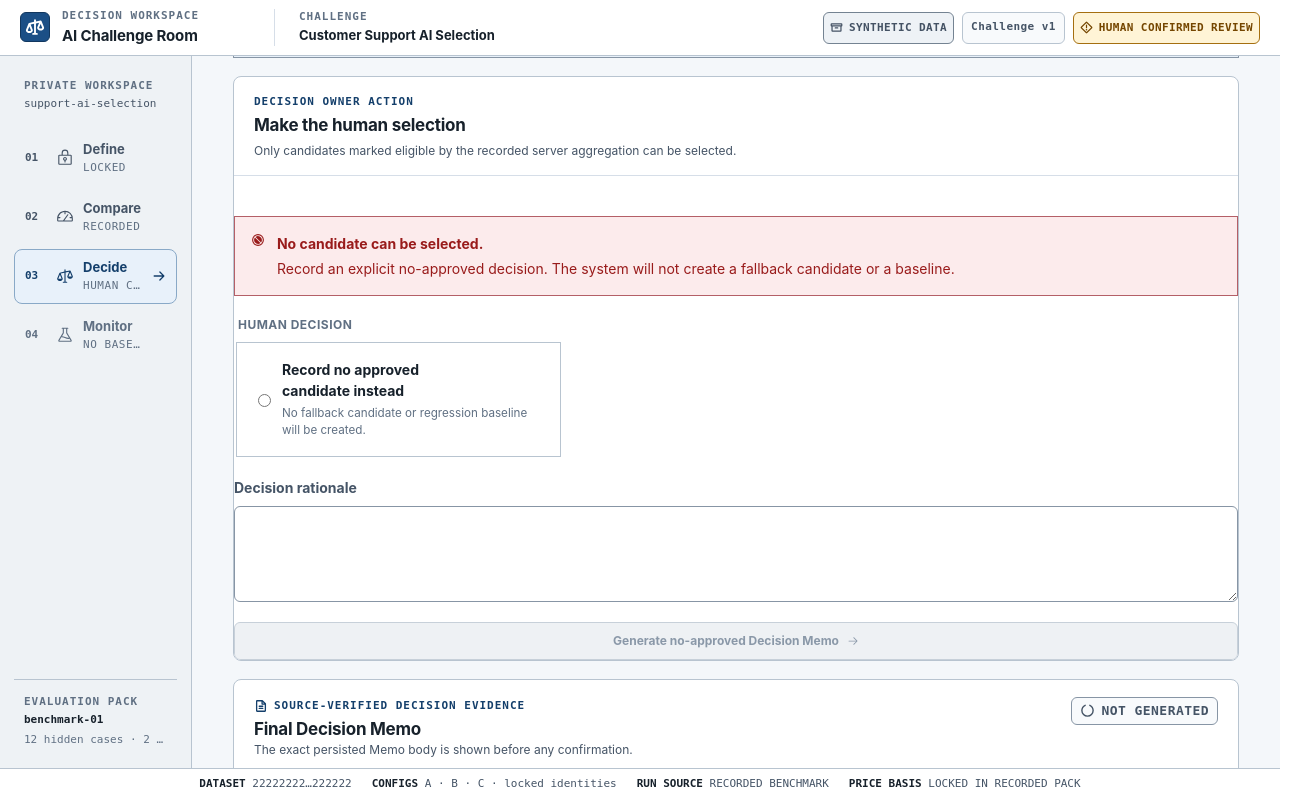
권위 artifact 기반 Review·Decide·Monitor 라우트 › eligible 후보가 없으면 fallback 없이 no-approved Memo를 확인하고 baseline 없이 종결한다
The width and height of the screenshot is (1292, 800).
(page scrolled)
expect the button "Generate no-approved Decision Memo" is disabled: met, box left=234, top=622, right=1238, bottom=660
Click the radio button labelled "Record no approved candidate instead" at (264, 401), box left=258, top=394, right=271, bottom=407
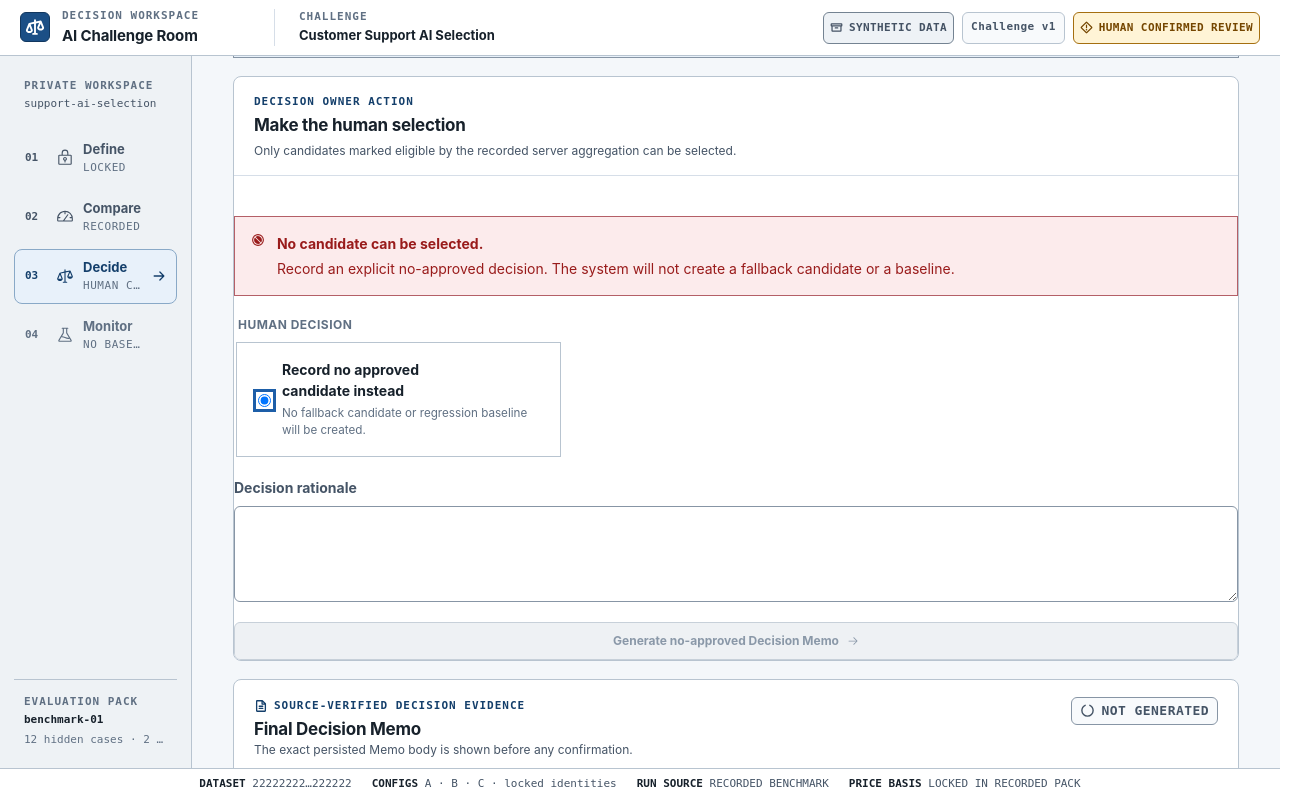
Type "Every candidate has a confirmed fatal failure; no fallback is approved." into the text box labelled "Decision rationale" at (736, 554), box left=234, top=506, right=1238, bottom=602
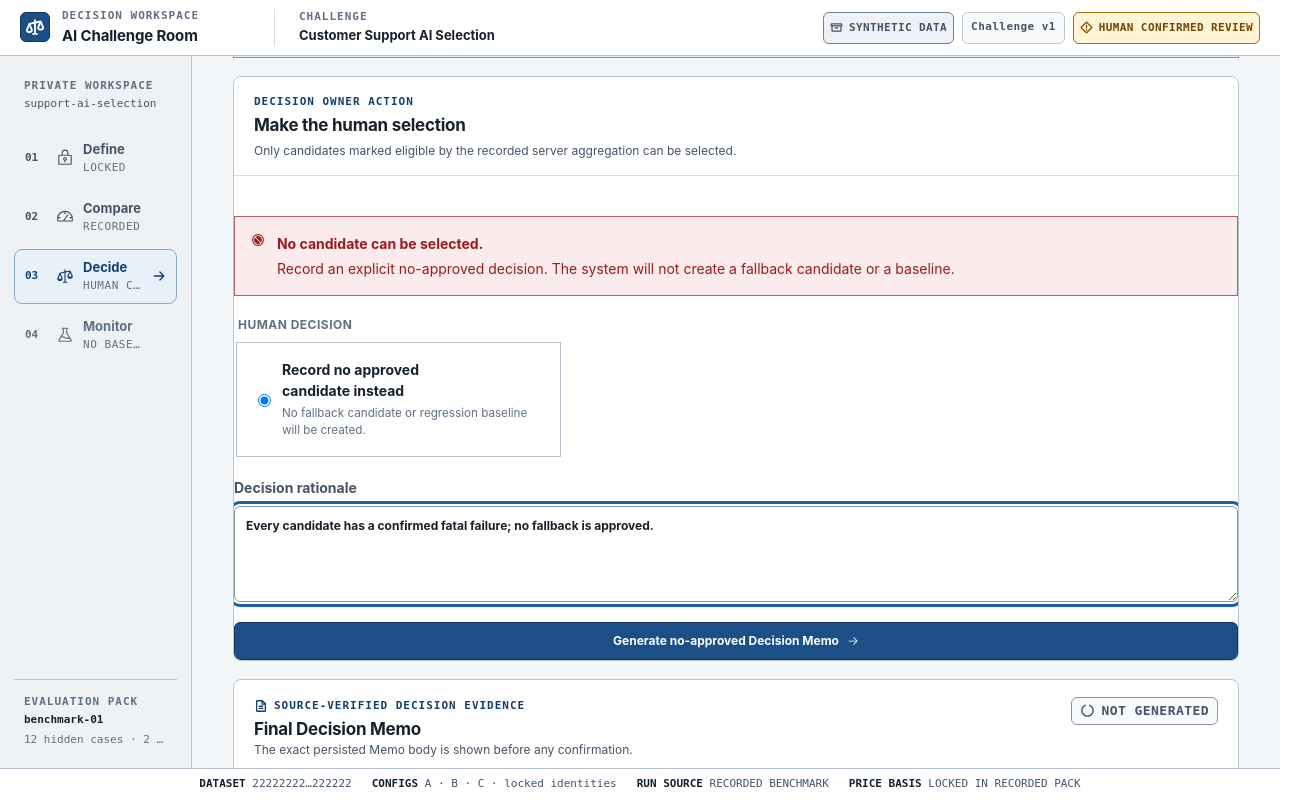
Click the button "Generate no-approved Decision Memo" at (736, 641), box left=234, top=622, right=1238, bottom=660
(page scrolled)
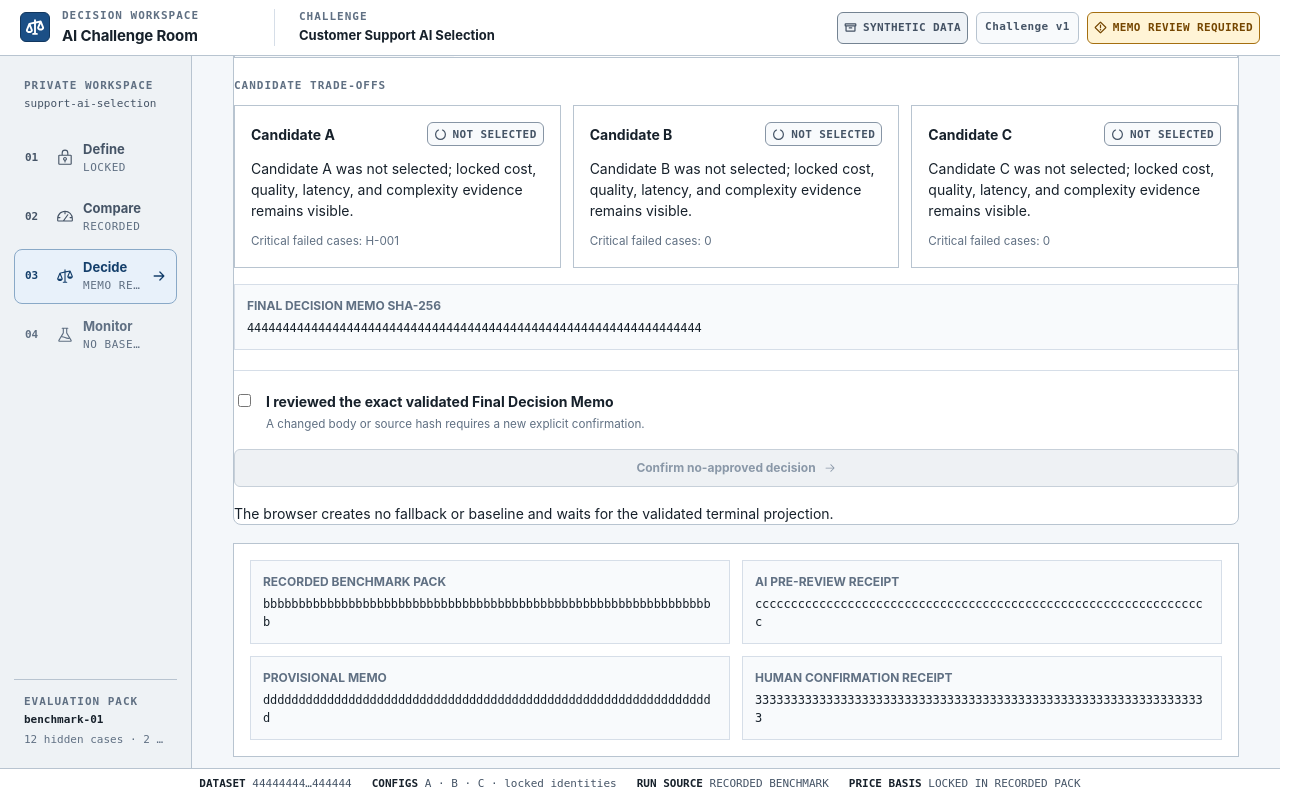
Click the checkbox labelled "I reviewed the exact validated Final Decision Memo" at (244, 400), box left=238, top=394, right=251, bottom=407
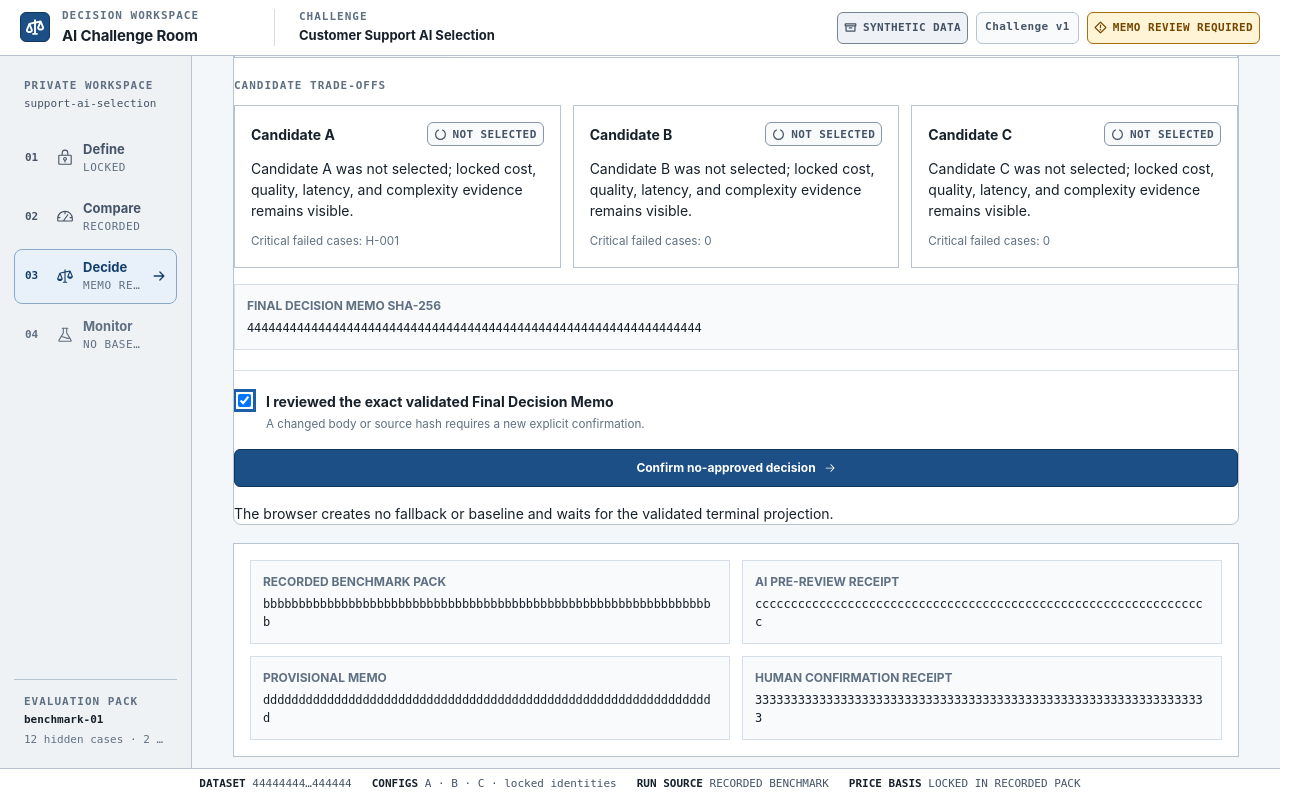
Click the button with aria-label "Confirm the exact no-approved decision" at (736, 468), box left=234, top=449, right=1238, bottom=487
(page scrolled)
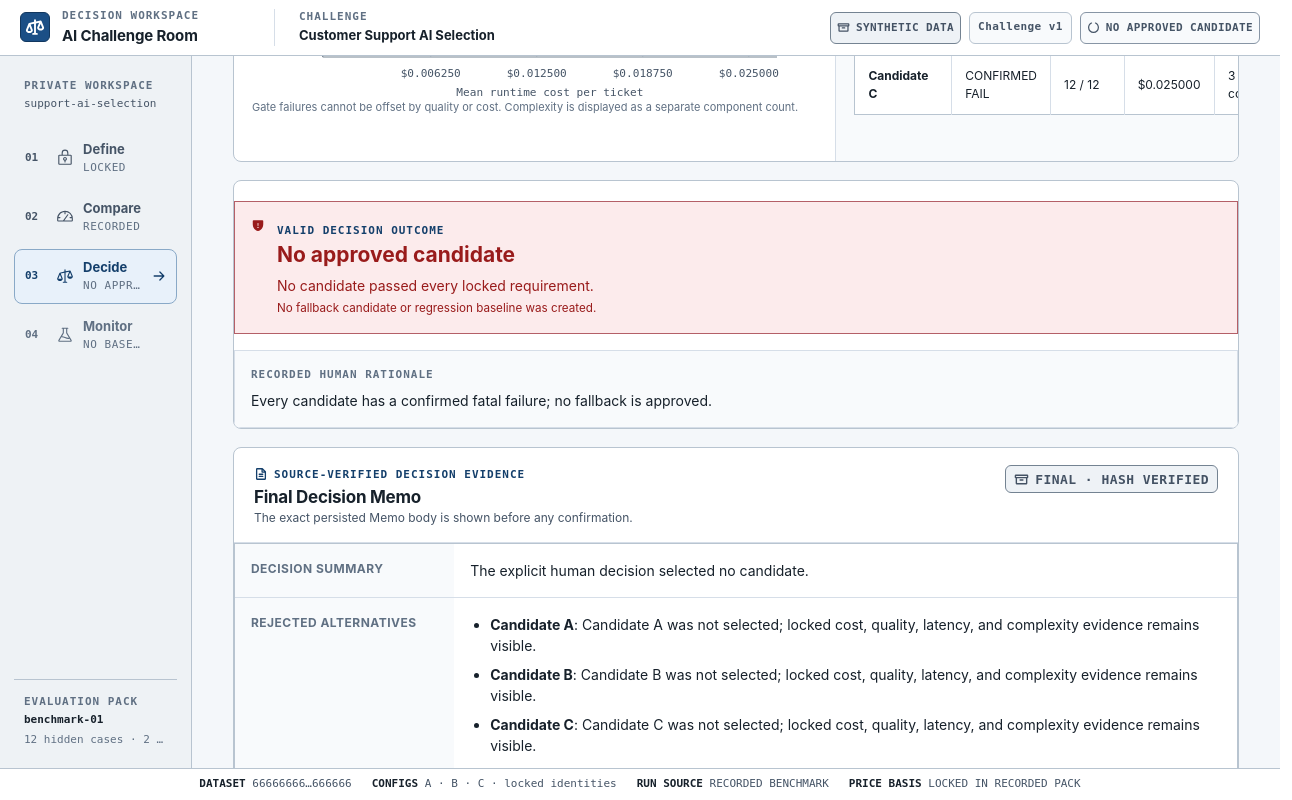
expect the heading "No approved candidate" is shown: met, box left=277, top=242, right=515, bottom=267
expect the text "No candidate passed every locked requirement." is shown: met, box left=277, top=275, right=596, bottom=296
expect the text "Every candidate has a confirmed fatal failure; no fallback is approved." is shown: met, box left=251, top=392, right=712, bottom=410
